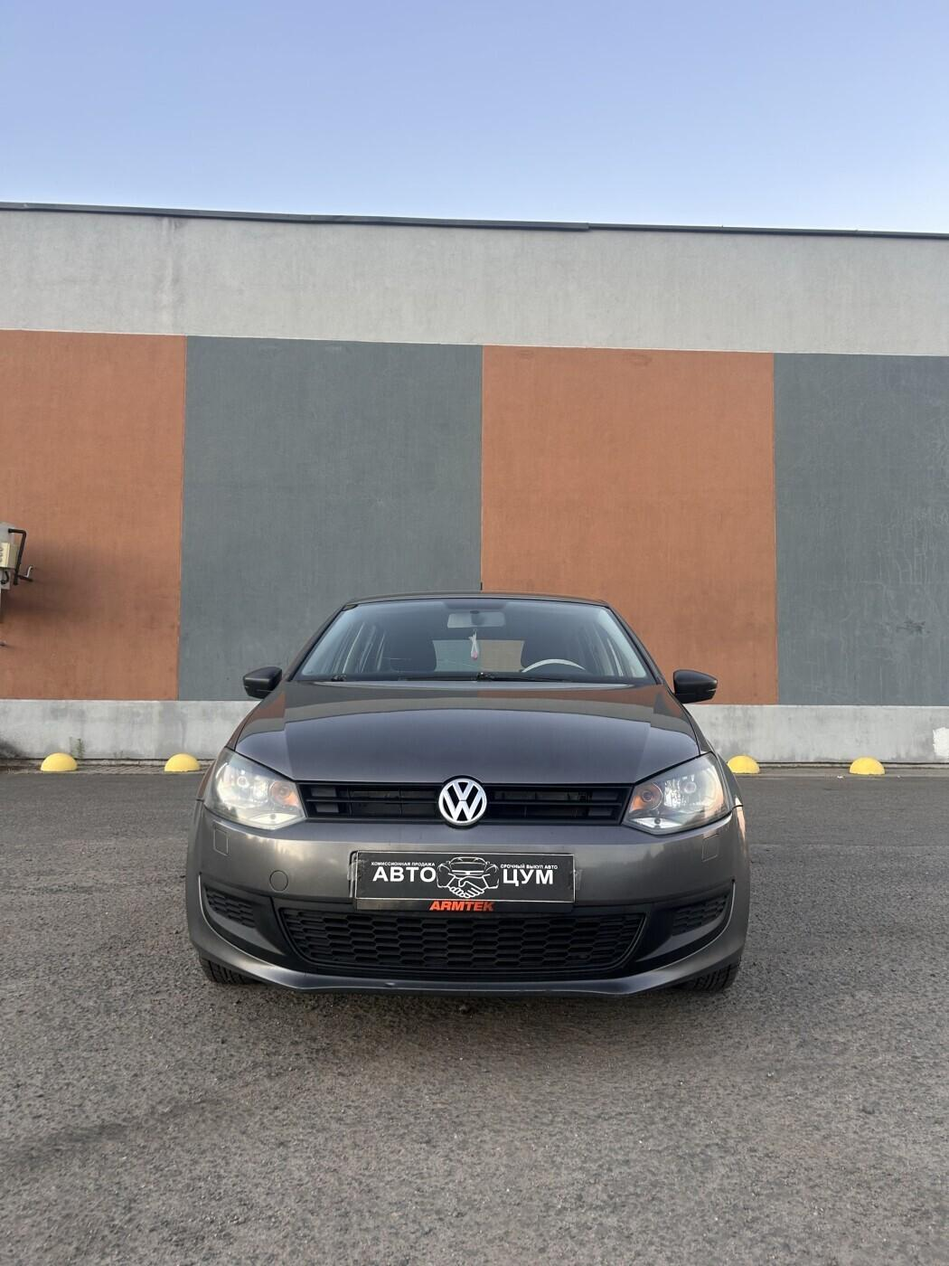Polo_2009-2015: (173, 571, 759, 1035)
